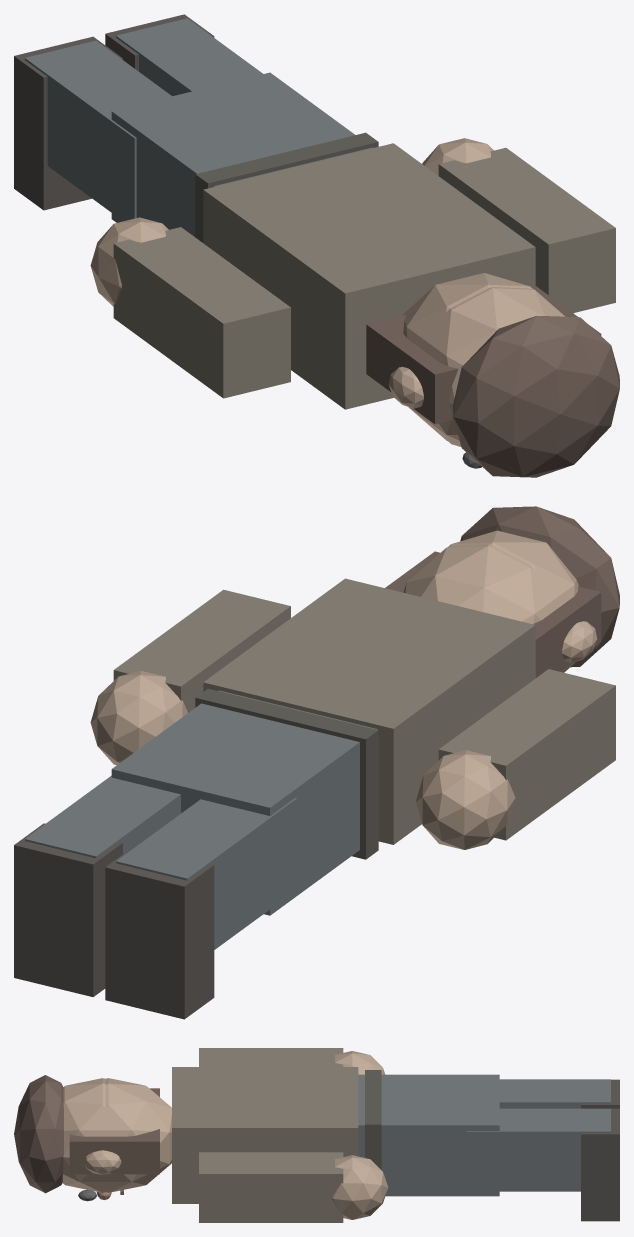
The model's file is hair_male_long.glb.
3 renders of one model, top to bottom at view 1: azimuth 30°, elevation 25°; view 2: azimuth 150°, elevation 25°; view 3: azimuth 270°, elevation 25°, orthographic. The views are drawn at different scales.
Parts seen in each view (by area): view 1: part_00, part_19, part_06, part_01, part_12, part_04, part_02, part_10, part_05, part_20, part_18, part_03 (+4 smaller); view 2: part_00, part_01, part_06, part_05, part_04, part_11, part_12, part_07, part_03, part_10, part_19, part_13 (+4 smaller); view 3: part_00, part_01, part_12, part_10, part_19, part_03, part_02, part_11, part_04, part_21, part_06, part_13 (+4 smaller).
Boxes of the visible parts, box(x1,y1,x2,y2) form: part_00: box(203, 143, 535, 409); part_19: box(453, 315, 619, 477); part_06: box(113, 227, 290, 398); part_01: box(111, 72, 372, 236); part_12: box(438, 147, 615, 313); part_04: box(25, 40, 171, 221); part_02: box(411, 287, 564, 446); part_10: box(116, 18, 262, 96); part_05: box(14, 36, 122, 210); part_20: box(366, 314, 458, 424); part_18: box(195, 132, 378, 242); part_03: box(402, 273, 532, 440); part_00: box(203, 578, 535, 844); part_01: box(111, 690, 377, 915); part_06: box(438, 669, 615, 840); part_05: box(105, 845, 214, 1019); part_04: box(116, 798, 297, 949); part_11: box(14, 823, 122, 996); part_12: box(113, 589, 290, 712); part_07: box(416, 750, 515, 849); part_03: box(403, 545, 557, 624); part_10: box(25, 775, 180, 858); part_19: box(460, 506, 619, 667); part_13: box(90, 671, 187, 765); part_00: box(172, 1067, 358, 1203); part_01: box(358, 1074, 499, 1196); part_12: box(199, 1152, 343, 1222); part_10: box(466, 1108, 610, 1191); part_19: box(14, 1075, 63, 1193); part_03: box(86, 1078, 171, 1192); part_02: box(62, 1078, 125, 1192); part_11: box(581, 1108, 619, 1221); part_04: box(499, 1079, 610, 1108); part_21: box(69, 1129, 159, 1174); part_06: box(199, 1048, 343, 1066); part_13: box(332, 1155, 388, 1219).
Bounding box in the file's own units: 1.03 × 0.435 × 2.02.
